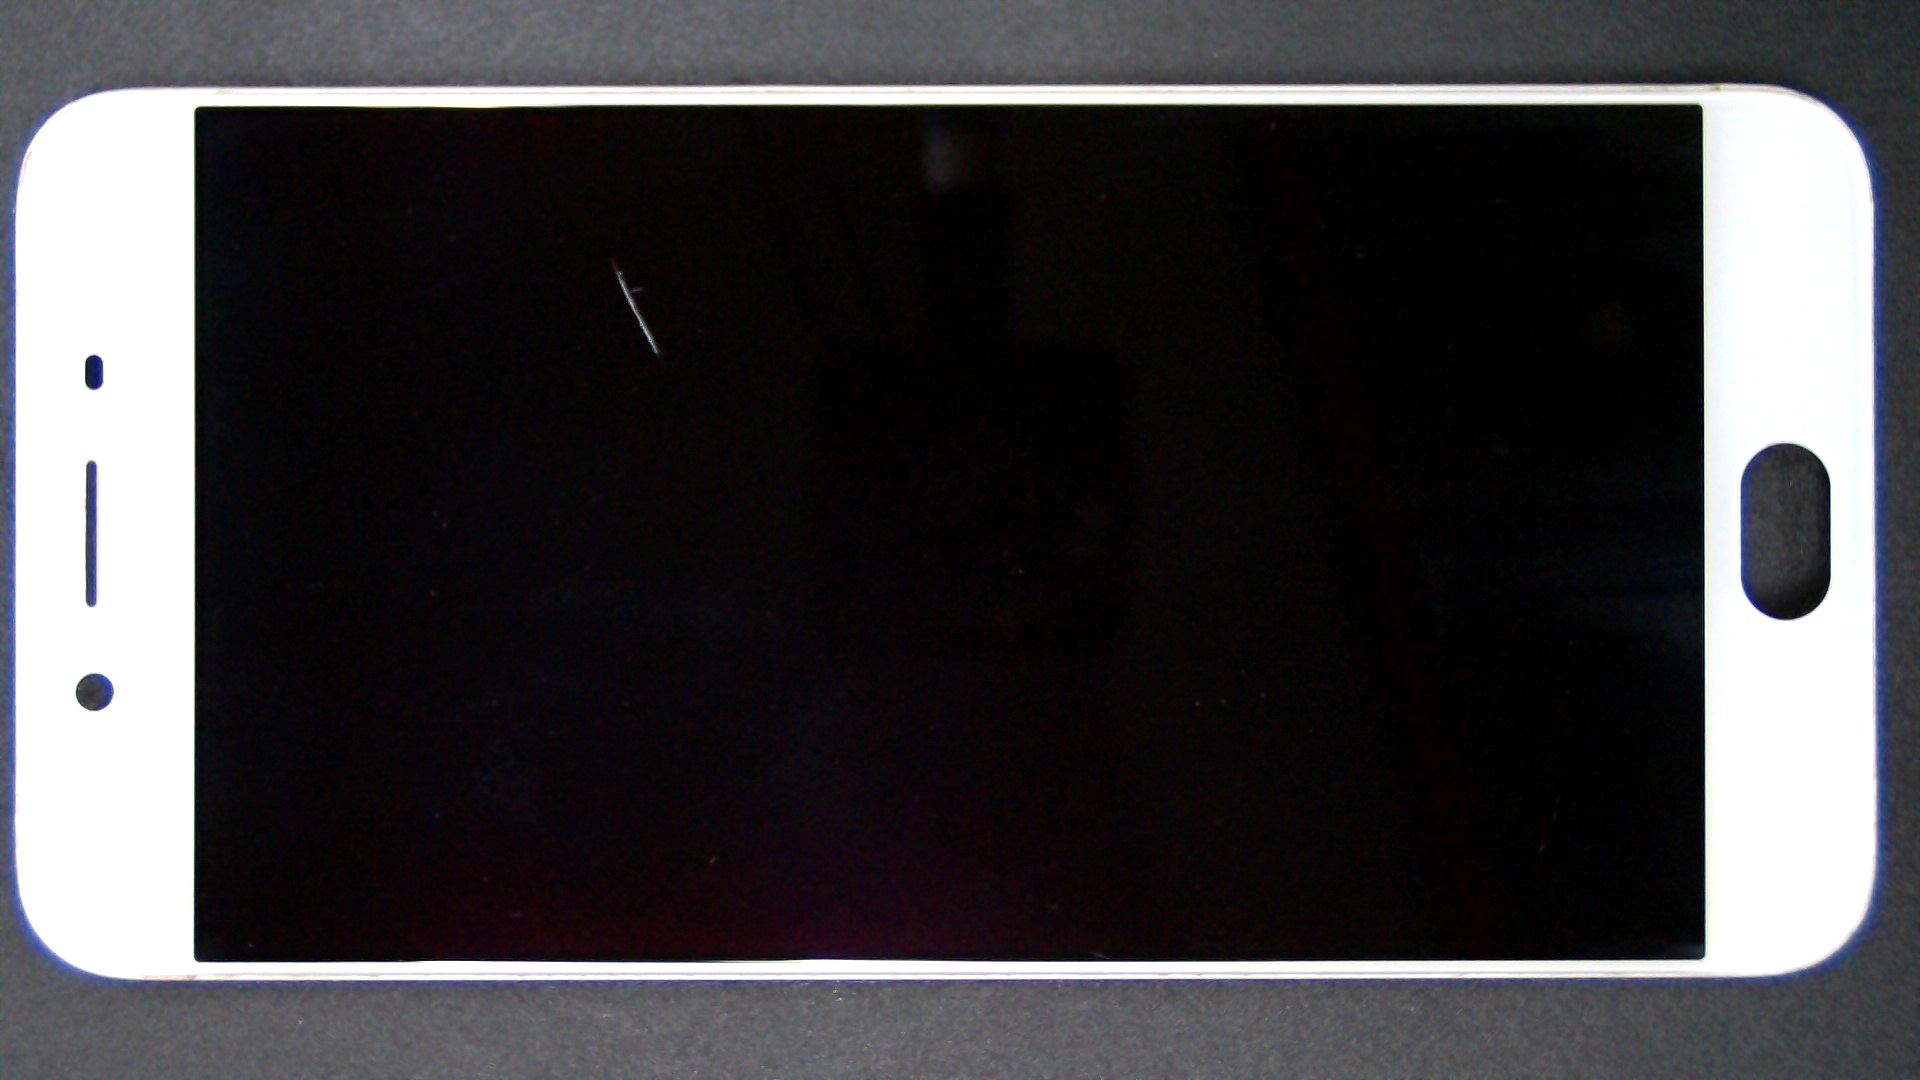oil: (306, 131, 918, 393)
